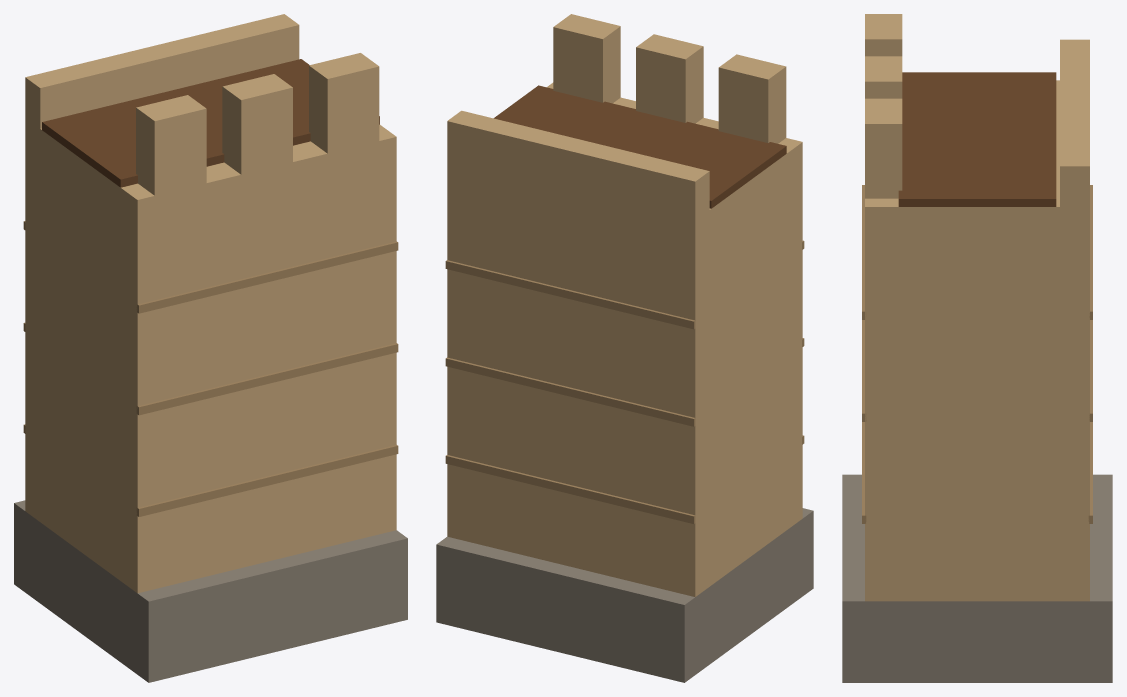
Rendered from wall.glb.
3 renders of one model, left to right at view 1: azimuth 30°, elevation 25°; view 2: azimuth 150°, elevation 25°; view 3: azimuth 270°, elevation 25°, orthographic. The views are drawn at different scales.
Visible parts, largest first — view 1: Wall; view 2: Wall; view 3: Wall.
Boxes of the visible parts, <box> form: Wall: <box>14,14,407,682</box>; Wall: <box>436,14,813,682</box>; Wall: <box>842,14,1112,682</box>.
Bounding box in the file's own units: 4 × 8.1 × 3.6.
